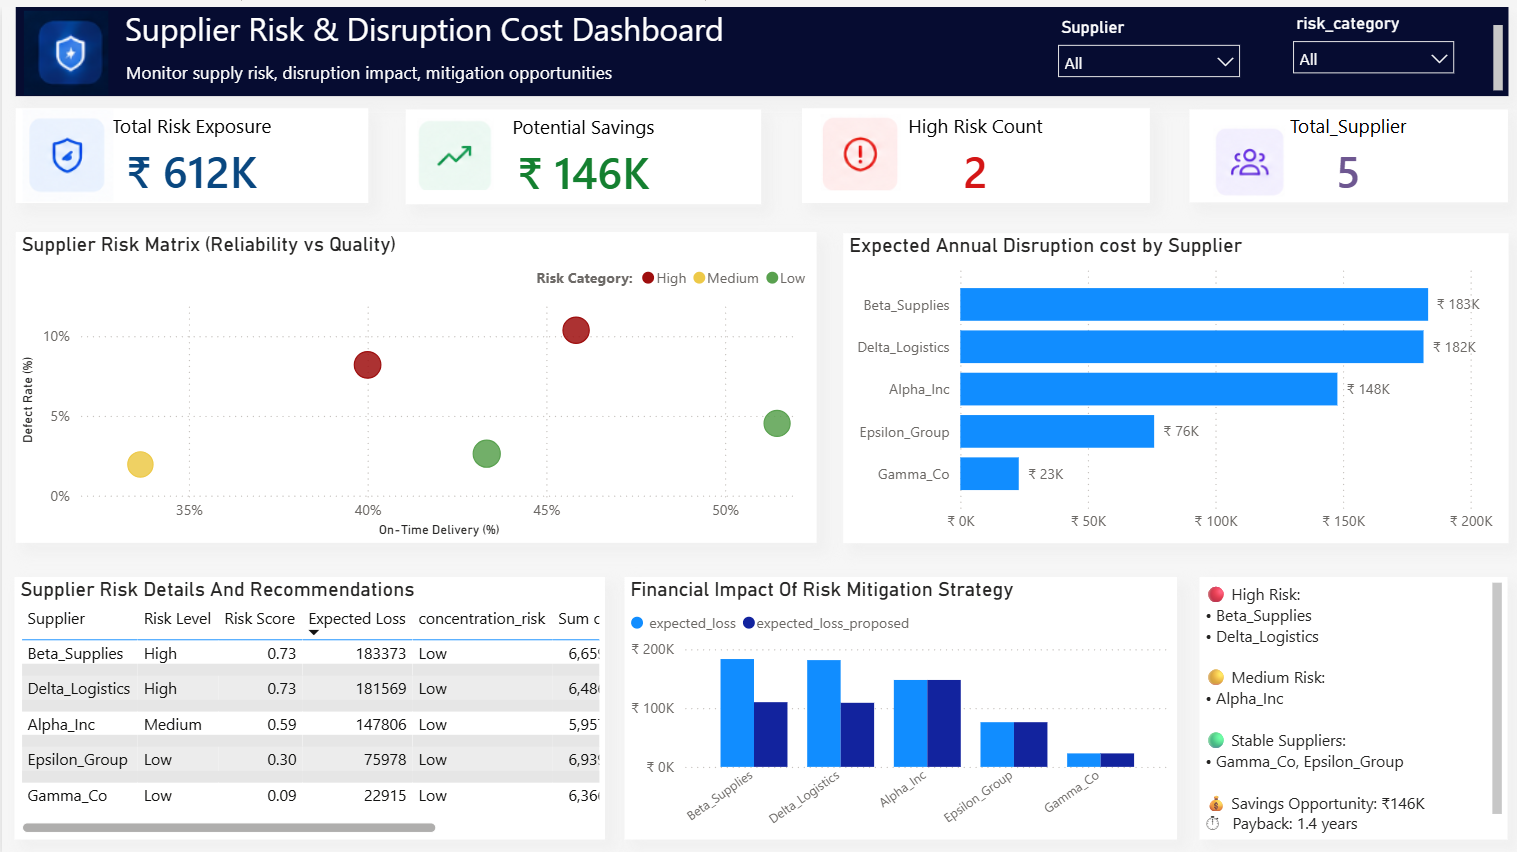

The page's visual inventory and layout, read from the dashboard file:
{"tool":"powerbi","page":{"name":"Supplier_Risk_Disruption_Cost","canvas":[1280,720],"ordinal":0},"visuals":[{"type":"textbox","box":[11.2,0,1260,75],"z":2000},{"type":"cardVisual","fields":{"Data":["_Measure.Total Expected Loss"]},"box":[11.2,85,297.5,80],"z":3000},{"type":"cardVisual","fields":{"Data":["_Measure.High Risk Count"]},"box":[675,85,293.8,80],"z":4000},{"type":"cardVisual","fields":{"Data":["_Measure.Potential Savings"]},"box":[341.2,86.2,300,80],"z":5000},{"type":"cardVisual","fields":{"Data":["_Measure.Total_Supplier"]},"box":[1002.5,86.2,268.8,78.8],"z":6000},{"type":"scatterChart","title":"Supplier Risk Matrix (Reliability vs Quality)","fields":{"X":["Sum(supplier_risk_final.on_time_pct)"],"Y":["Sum(supplier_risk_final.defect_rate)"],"Size":["_Measure.Total Spend"],"Category":["supplier_risk_final.Supplier"],"Series":["supplier_risk_final.Risk Level"]},"box":[11.2,190,676.2,262.5],"z":7000},{"type":"clusteredBarChart","title":"Expected Annual Disruption cost by Supplier","fields":{"Category":["supplier_risk_final.Supplier"],"Y":["_Measure.Total Expected Loss"]},"box":[710,191.2,561.2,261.2],"z":8000},{"type":"tableEx","title":"Supplier Risk Details And Recommendations","fields":{"Values":["supplier_risk_final.Supplier","supplier_risk_final.Risk Level","Sum(supplier_risk_final.risk_score)","_Measure.Total Expected Loss","supplier_risk_final.concentration_risk","Sum(supplier_risk_final.spend)","supplier_risk_final.Recommended Action"]},"box":[11,481,498.7,221.3],"z":9000},{"type":"clusteredColumnChart","title":"Financial Impact Of Risk Mitigation Strategy","fields":{"Category":["supplier_risk_final.Supplier"],"Y":["Sum(supplier_risk_final.expected_loss)","Sum(supplier_risk_final.expected_loss_proposed)"]},"box":[525.8,480.8,466.6,221.5],"z":10000},{"type":"textbox","box":[1011.2,481.2,260,221.2],"z":11000},{"type":"slicer","fields":{"Values":["supplier_risk_final.Supplier"]},"box":[881.1,3.6,174.1,56.8],"z":12000},{"type":"slicer","fields":{"Values":["supplier_risk_final.risk_category"]},"box":[1078.9,0,156.3,60.4],"z":13000},{"type":"image","box":[11.2,86.2,87.5,77.5],"z":14000},{"type":"image","box":[350,86.2,65,75],"z":15000},{"type":"image","box":[10.7,3.6,87.6,71.1],"z":18000},{"type":"image","box":[687.5,91.2,73.8,63.8],"z":18002},{"type":"image","box":[1011.2,100,85,60],"z":18003}]}

Visuals, with their boxes in screenshot pixels (x1, y1, x2, y2), scaled from the page's 1280x720 canvas onto the 1517x852 screenshot:
textbox: region(13, 0, 1507, 89)
cardVisual - _Measure.Total Expected Loss: region(13, 101, 366, 195)
cardVisual - _Measure.High Risk Count: region(800, 101, 1148, 195)
cardVisual - _Measure.Potential Savings: region(404, 102, 760, 197)
cardVisual - _Measure.Total_Supplier: region(1188, 102, 1507, 195)
"Supplier Risk Matrix (Reliability vs Quality)" scatterChart: region(13, 225, 815, 535)
"Expected Annual Disruption cost by Supplier" clusteredBarChart: region(841, 226, 1507, 535)
"Supplier Risk Details And Recommendations" tableEx: region(13, 569, 604, 831)
"Financial Impact Of Risk Mitigation Strategy" clusteredColumnChart: region(623, 569, 1176, 831)
textbox: region(1198, 569, 1507, 831)
slicer - supplier_risk_final.Supplier: region(1044, 4, 1251, 71)
slicer - supplier_risk_final.risk_category: region(1279, 0, 1464, 71)
image: region(13, 102, 117, 194)
image: region(415, 102, 492, 191)
image: region(13, 4, 117, 88)
image: region(815, 108, 902, 183)
image: region(1198, 118, 1299, 189)
